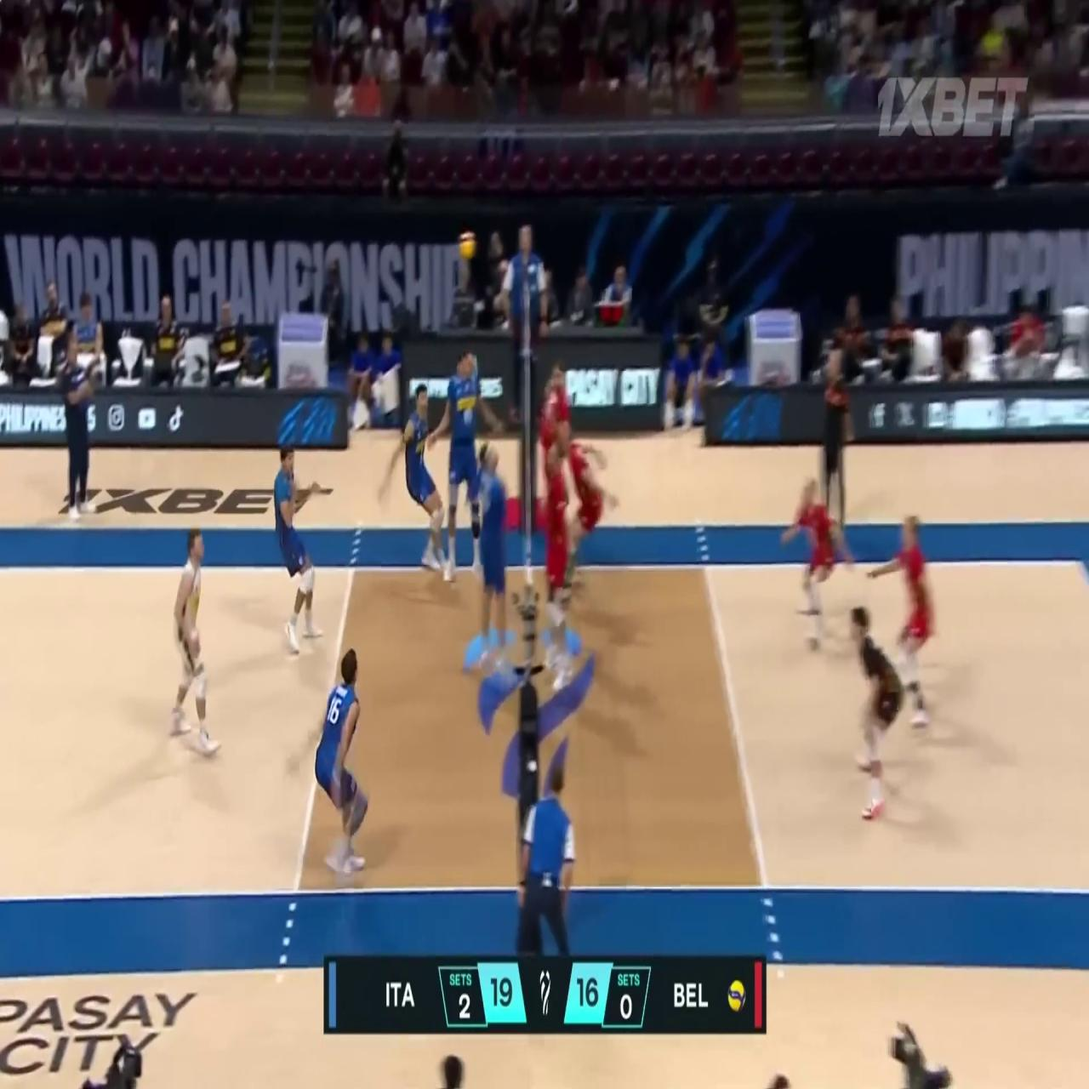ball: (459, 231, 475, 257)
